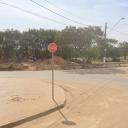Pare: (47, 43, 57, 52)
